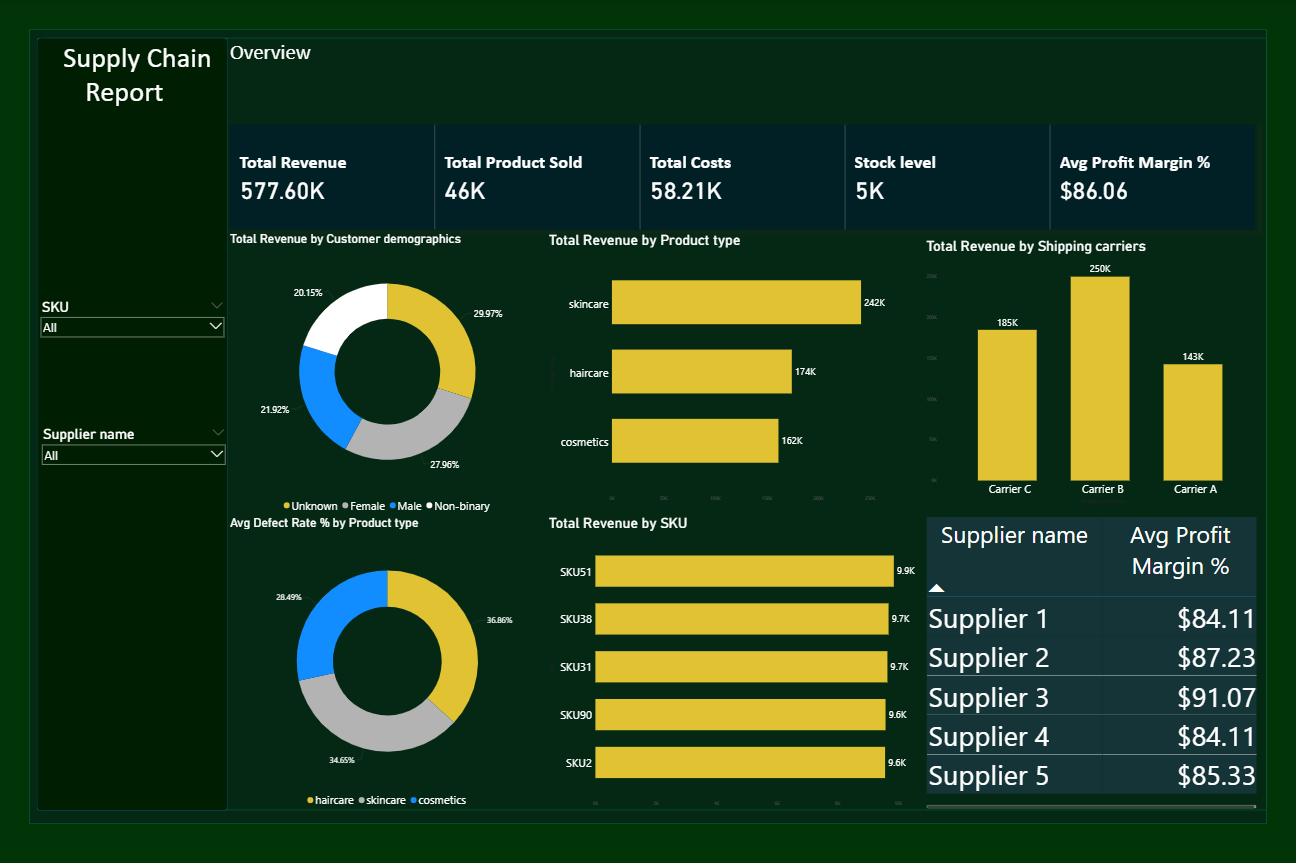

The page's visual inventory and layout, read from the dashboard file:
{"tool":"powerbi","page":{"name":"Page 1","canvas":[3300,2200],"ordinal":0},"visuals":[{"type":"shape","box":[79.4,76.2,3143.8,2019.6],"z":0},{"type":"shape","box":[120.7,98.4,3102.5,1962.5],"z":1000},{"type":"shape","box":[99.1,99.1,484.7,1963.4],"z":2000},{"type":"cardVisual","fields":{"Data":["_Measures.Total Revenue","_Measures.Total Product Sold","_Measures.Total Costs","_Measures.Stock level","_Measures.Avg Profit Margin %"]},"box":[584.3,314.4,2616.6,276.3],"z":3000},{"type":"donutChart","fields":{"Y":["_Measures.Total Revenue"],"Category":["supply_chain_data.Customer demographics"]},"box":[583.7,590.8,810.1,721.7],"z":4000},{"type":"donutChart","fields":{"Category":["supply_chain_data.Product type"],"Y":["_Measures.Avg Defect Rate %"]},"box":[583.7,1312.5,810.1,750],"z":5000},{"type":"clusteredBarChart","fields":{"Y":["_Measures.Total Revenue"],"Category":["supply_chain_data.Product type"]},"box":[1393.9,590.8,916.3,696.9],"z":6000},{"type":"clusteredBarChart","fields":{"Y":["_Measures.Total Revenue"],"Category":["supply_chain_data.SKU"]},"box":[1393.9,1312.5,958.7,750],"z":7000},{"type":"columnChart","fields":{"Y":["_Measures.Total Revenue"],"Category":["supply_chain_data.Shipping carriers"]},"box":[2352.6,605,870.3,682.8],"z":8000},{"type":"tableEx","fields":{"Values":["supply_chain_data.Supplier name","_Measures.Avg Profit Margin %"]},"box":[2352.6,1312.5,849.1,750],"z":9000},{"type":"textbox","box":[584.3,98.4,301.7,215.9],"z":10000},{"type":"slicer","fields":{"Values":["supply_chain_data.SKU"]},"box":[98.4,755.8,485.9,155.6],"z":11000},{"type":"slicer","fields":{"Values":["supply_chain_data.Supplier name"]},"box":[101.6,1079.7,485.9,174.7],"z":12000},{"type":"textbox","box":[120.7,98.4,463.6,355.7],"z":13000}]}

Visuals, with their boxes in screenshot pixels (x1, y1, x2, y2), scaled from the page's 3300x2200 canvas onto the 1296x863 screenshot:
shape: x1=31 y1=30 x2=1266 y2=822
shape: x1=47 y1=39 x2=1266 y2=808
shape: x1=39 y1=39 x2=229 y2=809
cardVisual - _Measures.Total Revenue x _Measures.Total Product Sold: x1=229 y1=123 x2=1257 y2=232
donutChart - _Measures.Total Revenue x supply_chain_data.Customer demographics: x1=229 y1=232 x2=547 y2=515
donutChart - supply_chain_data.Product type x _Measures.Avg Defect Rate %: x1=229 y1=515 x2=547 y2=809
clusteredBarChart - _Measures.Total Revenue x supply_chain_data.Product type: x1=547 y1=232 x2=907 y2=505
clusteredBarChart - _Measures.Total Revenue x supply_chain_data.SKU: x1=547 y1=515 x2=924 y2=809
columnChart - _Measures.Total Revenue x supply_chain_data.Shipping carriers: x1=924 y1=237 x2=1266 y2=505
tableEx - supply_chain_data.Supplier name x _Measures.Avg Profit Margin %: x1=924 y1=515 x2=1257 y2=809
textbox: x1=229 y1=39 x2=348 y2=123
slicer - supply_chain_data.SKU: x1=39 y1=296 x2=229 y2=358
slicer - supply_chain_data.Supplier name: x1=40 y1=424 x2=231 y2=492
textbox: x1=47 y1=39 x2=229 y2=178
